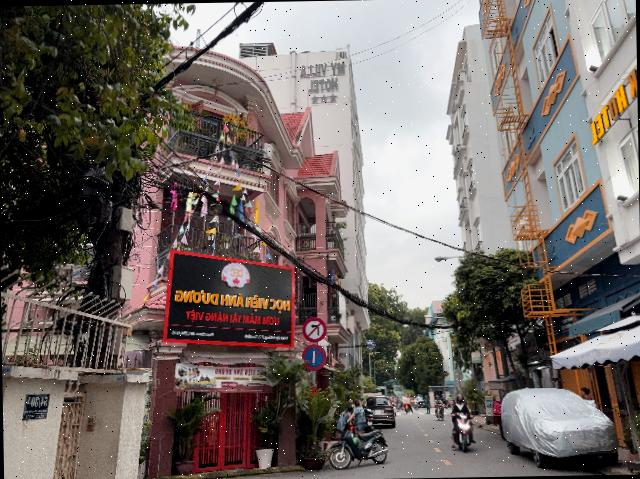cam-do-xe-ngay-le: (301, 343, 327, 371)
cam-re-phai: (302, 316, 327, 342)
